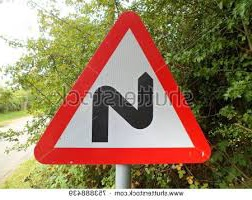Double_bend_right: (36, 8, 210, 165)
